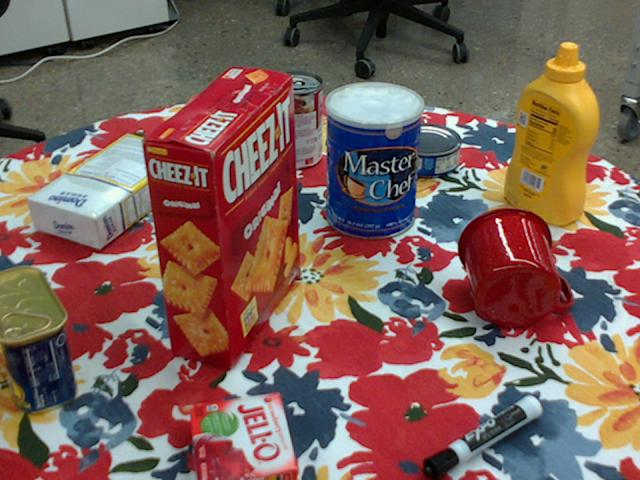cracker_box: (137, 66, 295, 368)
gelatin_box: (190, 392, 300, 479)
large_marker: (424, 394, 543, 478)
master_chef_can: (325, 82, 423, 240)
mug: (456, 206, 572, 327)
mustard_bottle: (502, 44, 597, 225)
potted_meat_can: (0, 264, 76, 412)
sugar_box: (27, 134, 191, 250)
tomato_soup_can: (266, 71, 323, 170)
tuna_fish_can: (393, 125, 463, 178)
